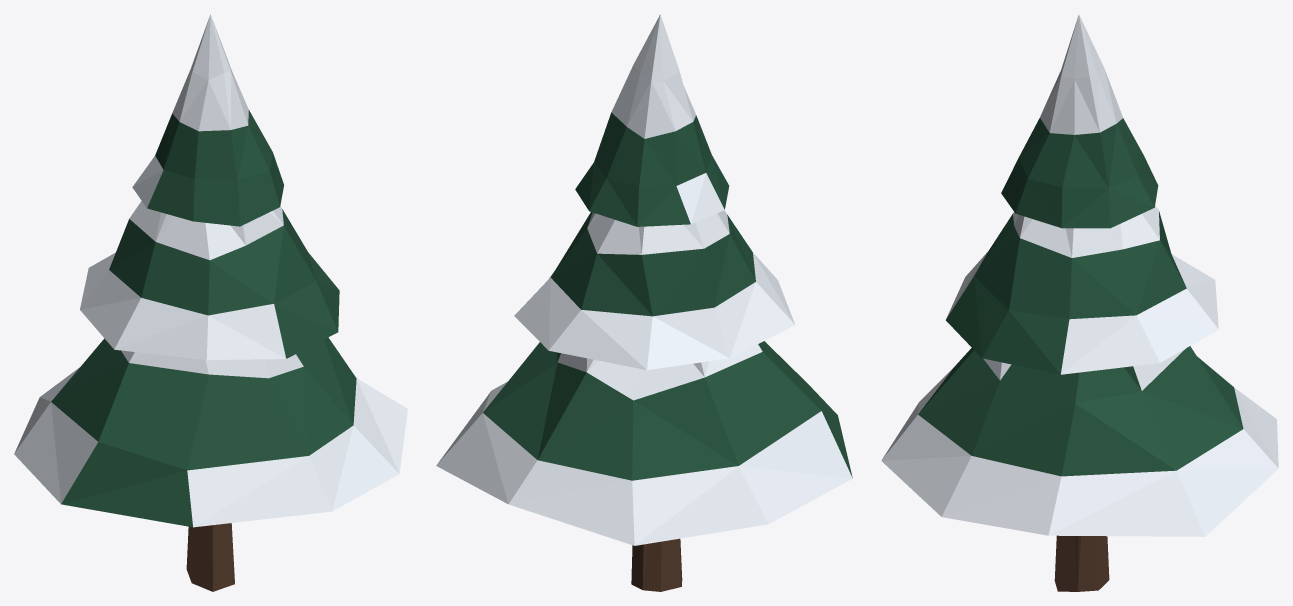
Rendered from pine_small.obj.
3 views of the same model, side by side, from view 1: azimuth 30°, elevation 25°; view 2: azimuth 150°, elevation 25°; view 3: azimuth 270°, elevation 25° (orthographic).
Visible parts, largest first — view 1: pine_small; view 2: pine_small; view 3: pine_small.
Boxes of the visible parts, bbox=[...] form: pine_small: bbox=[14, 14, 407, 591]; pine_small: bbox=[436, 14, 852, 591]; pine_small: bbox=[881, 14, 1278, 591].
Bounding box in the file's own units: 5.06 × 7.78 × 4.9.
Materials: 1 (1 with a texture image).
